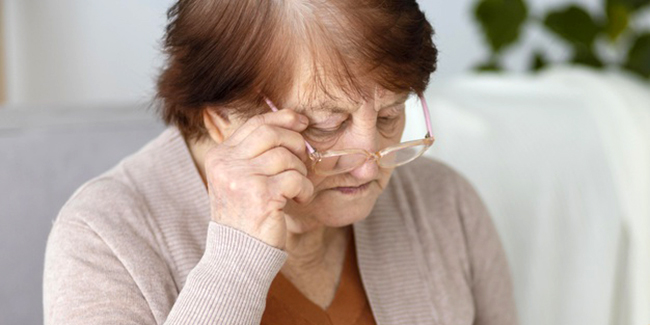without_mask: (267, 69, 412, 227)
